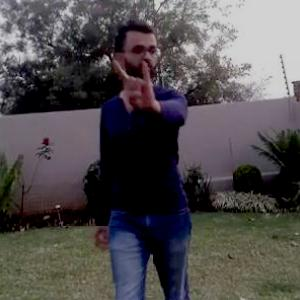takeoff-hand: (106, 53, 164, 112)
